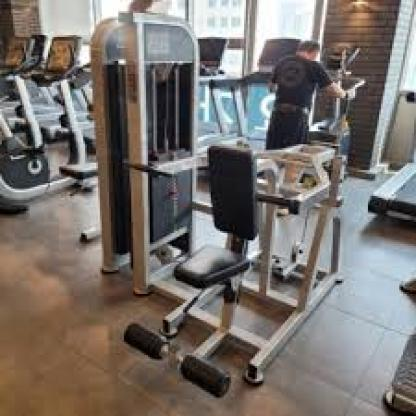seated dip machine: (66, 8, 367, 400)
